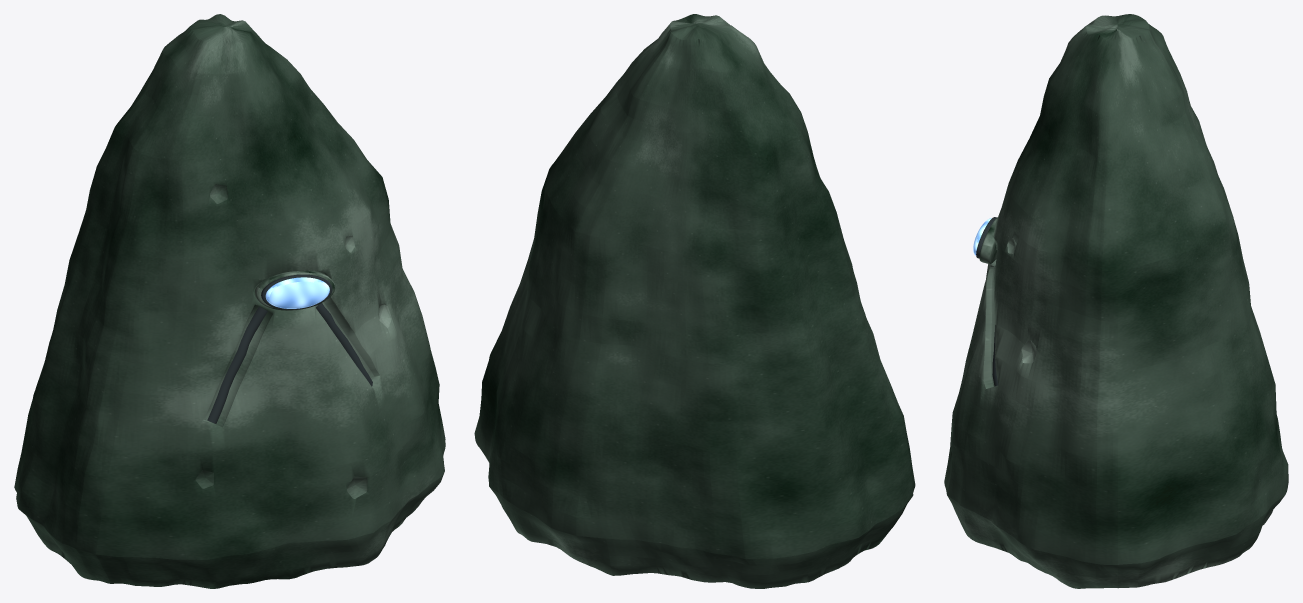
3 views of the same model, side by side, from view 1: azimuth 30°, elevation 25°; view 2: azimuth 150°, elevation 25°; view 3: azimuth 270°, elevation 25° (orthographic). The views are drawn at different scales.
Parts seen in each view (by area): view 1: Fa-lanth continuous mineral mound, Single horizontal pale-blue oval, Dark diagonal cleft 0, Dark diagonal cleft 1, Oval inset worn rim; view 2: Fa-lanth continuous mineral mound; view 3: Fa-lanth continuous mineral mound, Oval inset worn rim.
Boxes of the visible parts, left/top/right/bottom form: Fa-lanth continuous mineral mound: left=14, top=14, right=445, bottom=588; Single horizontal pale-blue oval: left=265, top=277, right=329, bottom=308; Dark diagonal cleft 0: left=207, top=306, right=267, bottom=423; Dark diagonal cleft 1: left=316, top=303, right=372, bottom=386; Oval inset worn rim: left=254, top=270, right=335, bottom=310; Fa-lanth continuous mineral mound: left=474, top=14, right=915, bottom=588; Fa-lanth continuous mineral mound: left=944, top=14, right=1288, bottom=588; Oval inset worn rim: left=979, top=217, right=997, bottom=263.
Bounding box in the file's own units: 1.56 × 1.85 × 1.2.
Materials: 4 (3 with a texture image).
